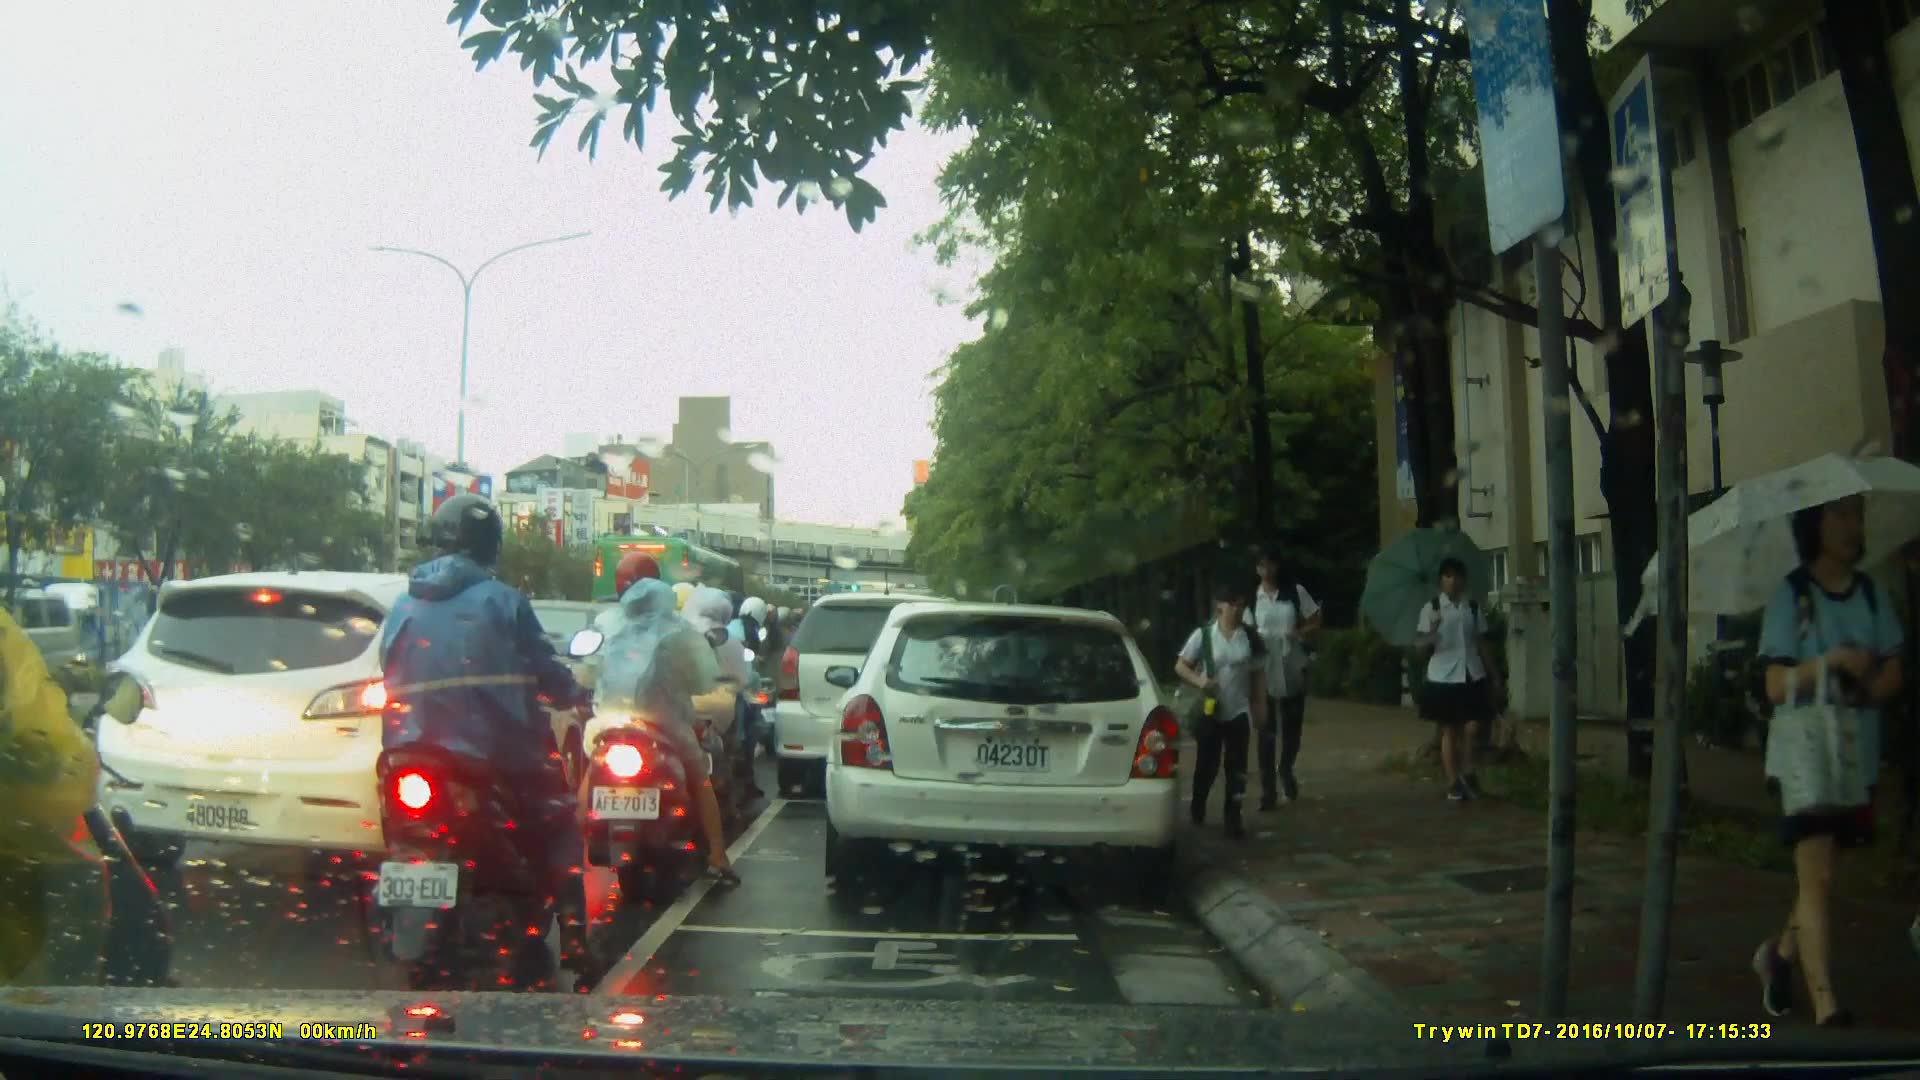pedestrian: (1709, 466, 1914, 1025), (1397, 551, 1501, 811), (1170, 573, 1272, 827), (1239, 543, 1335, 814)
rider: (1, 455, 181, 1080), (377, 488, 603, 981), (559, 553, 746, 907), (639, 577, 764, 826), (692, 594, 776, 778)
vehicle: (94, 569, 617, 883), (822, 604, 1187, 883), (774, 595, 995, 802), (593, 534, 763, 645), (1, 593, 94, 706)
